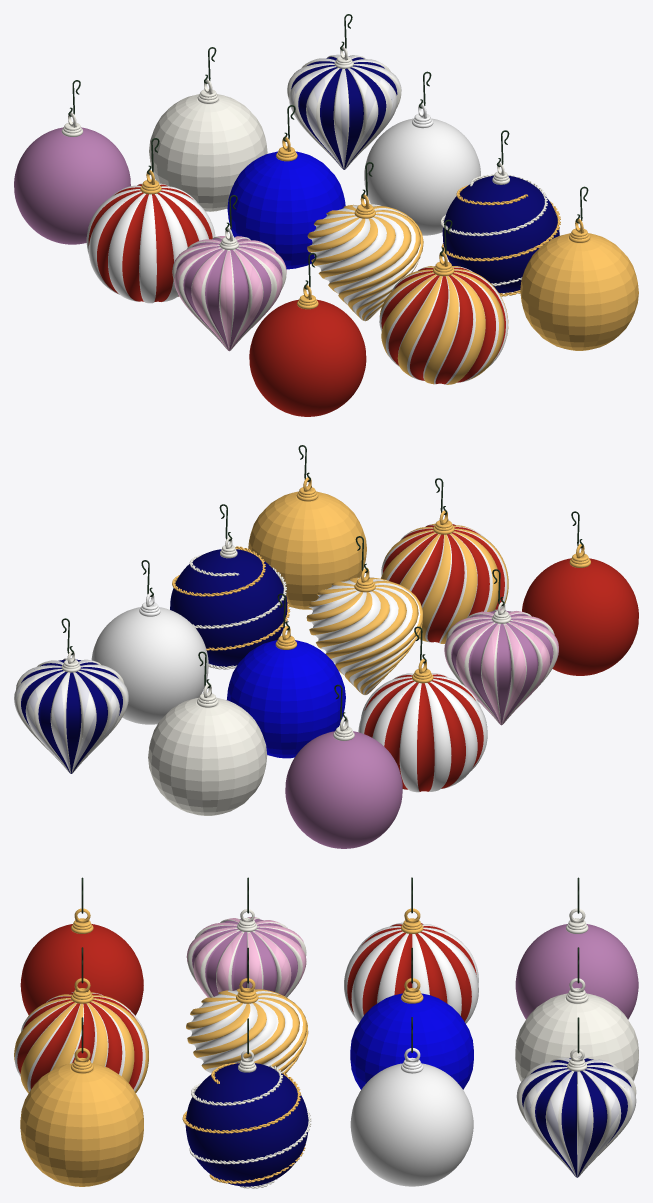
File: christmas_balls.glb
The picture shows the model from 3 angles, top to bottom: view 1: azimuth 30°, elevation 25°; view 2: azimuth 150°, elevation 25°; view 3: azimuth 270°, elevation 25°; orthographic projection. The views are drawn at different scales.
Visible parts, largest first — view 1: Pallina_natalizia_02, Pallina_natalizia_03, Pallina_natalizia_01, Pallina_natalizia_07, Pallina_natalizia_10, Pallina_natalizia_11, Pallina_natalizia_09, Pallina_natalizia_08, Pallina_natalizia_05, Pallina_natalizia_04, Pallina_natalizzia_12, Pallina_natalizia_06 (+1 smaller); view 2: Pallina_natalizia_11, Pallina_natalizia_07, Pallina_natalizia_10, Pallina_natalizia_08, Pallina_natalizia_01, Pallina_natalizia_02, Pallina_natalizia_03, Pallina_natalizia_09, Pallina_natalizia_05, Pallina_natalizia_06, Pallina_natalizzia_12, Pallina_natalizia_04 (+1 smaller); view 3: Pallina_natalizia_03, Pallina_natalizia_09, Pallina_natalizia_06, Pallina_natalizzia_12, Pallina_natalizia_07, Pallina_natalizia_02, Pallina_natalizia_08, Pallina_natalizia_10, Pallina_natalizia_05, Pallina_natalizia_01, Pallina_natalizia_04, Pallina_natalizia_11 (+1 smaller).
Part boxes in pixels (box(x1,y1,x2,y2)): Pallina_natalizia_02: box(379, 252, 508, 384); Pallina_natalizia_03: box(520, 218, 638, 350); Pallina_natalizia_01: box(249, 285, 366, 416); Pallina_natalizia_07: box(86, 170, 215, 303); Pallina_natalizia_10: box(14, 112, 130, 244); Pallina_natalizia_11: box(149, 79, 267, 211); Pallina_natalizia_09: box(364, 104, 480, 235); Pallina_natalizia_08: box(227, 136, 345, 269); Pallina_natalizia_05: box(307, 194, 423, 321); Pallina_natalizia_04: box(172, 227, 286, 351); Pallina_natalizzia_12: box(287, 46, 401, 169); Pallina_natalizia_06: box(442, 163, 559, 293); Pallina_natalizia_11: box(148, 683, 267, 815); Pallina_natalizia_07: box(358, 659, 487, 792); Pallina_natalizia_10: box(285, 716, 402, 848); Pallina_natalizia_08: box(227, 625, 345, 758); Pallina_natalizia_01: box(522, 544, 638, 675); Pallina_natalizia_02: box(381, 510, 508, 643); Pallina_natalizia_03: box(248, 477, 366, 609); Pallina_natalizia_09: box(91, 592, 208, 724); Pallina_natalizia_05: box(306, 568, 423, 695); Pallina_natalizia_06: box(170, 537, 287, 666); Pallina_natalizzia_12: box(14, 650, 128, 773); Pallina_natalizia_04: box(444, 602, 558, 725); Pallina_natalizia_03: box(20, 1048, 143, 1186); Pallina_natalizia_09: box(350, 1048, 473, 1186); Pallina_natalizia_06: box(185, 1050, 308, 1186); Pallina_natalizzia_12: box(516, 1048, 636, 1177); Pallina_natalizia_07: box(344, 908, 478, 1023); Pallina_natalizia_02: box(14, 978, 148, 1093); Pallina_natalizia_08: box(350, 978, 473, 1089); Pallina_natalizia_10: box(515, 908, 638, 1019); Pallina_natalizia_05: box(186, 978, 308, 1073); Pallina_natalizia_01: box(20, 908, 143, 1015); Pallina_natalizia_04: box(186, 909, 306, 997); Pallina_natalizia_11: box(515, 978, 638, 1081).
Size of the model in its own units: 0.4467 by 0.1795 by 0.6062.
